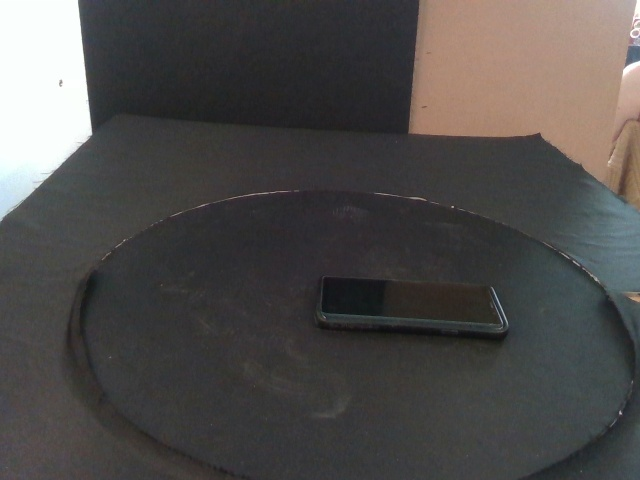phone: (314, 274, 508, 341)
